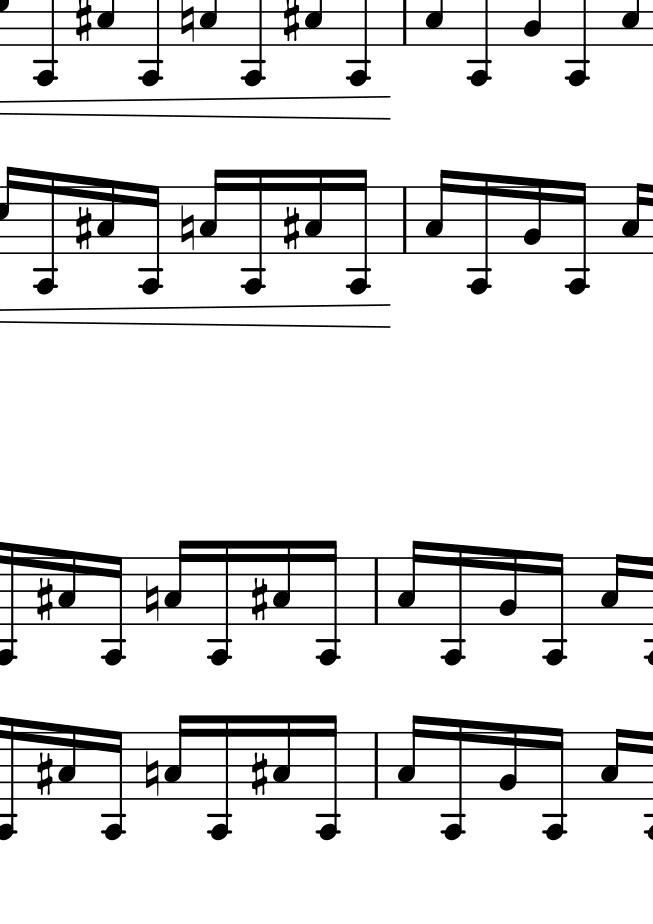16_-4: (239, 167, 269, 297), (438, 717, 469, 842), (205, 539, 235, 667), (205, 713, 233, 840), (315, 713, 342, 842), (344, 168, 370, 299), (440, 543, 467, 669), (540, 726, 569, 840), (466, 172, 492, 299), (35, 170, 59, 300), (99, 730, 127, 840), (317, 539, 340, 671), (542, 552, 568, 666), (565, 177, 589, 300), (100, 554, 126, 667), (139, 183, 163, 297), (1, 715, 17, 844)
16_3: (164, 539, 193, 626), (396, 713, 425, 799), (198, 167, 226, 256), (163, 714, 191, 800), (424, 168, 451, 255), (396, 540, 423, 626), (600, 727, 629, 800), (600, 552, 626, 628), (621, 182, 648, 255), (496, 724, 521, 802), (304, 168, 326, 256), (498, 547, 520, 629), (272, 714, 292, 802), (273, 539, 293, 626), (523, 176, 544, 257), (57, 548, 78, 626), (96, 178, 117, 255), (57, 723, 77, 802)
Natural: (142, 749, 161, 805), (143, 574, 161, 624), (178, 205, 196, 252), (179, 1, 196, 44)
Sharp: (248, 749, 269, 800), (279, 1, 301, 46), (36, 574, 55, 624), (33, 753, 54, 796), (250, 576, 269, 623), (75, 1, 93, 46), (283, 206, 300, 252), (76, 206, 93, 250)
Single_barline: (397, 185, 413, 255), (370, 731, 385, 800), (370, 557, 384, 625)
